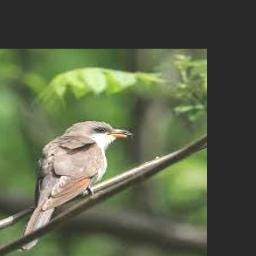Cuckoo: (19, 121, 132, 253)
